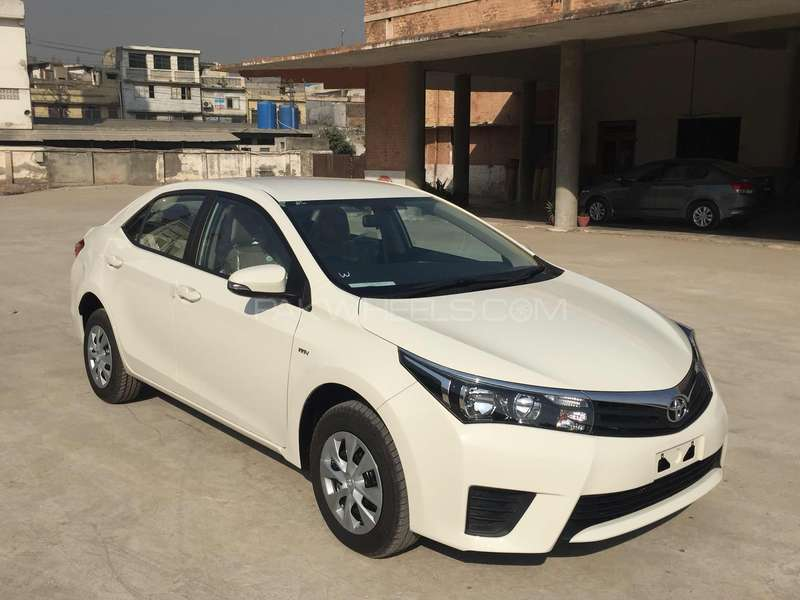car: (70, 173, 727, 565)
